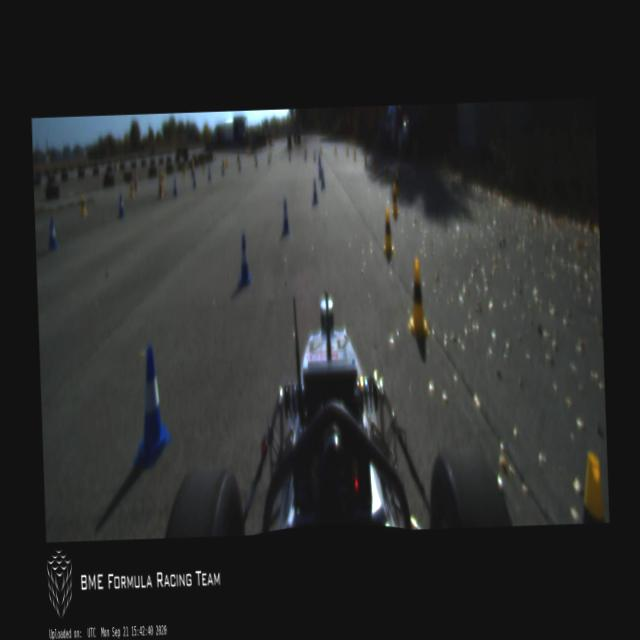blue_cone: (130, 342, 172, 470), (235, 234, 251, 290), (280, 197, 290, 237), (47, 215, 57, 252), (311, 178, 317, 206), (118, 192, 124, 218), (172, 178, 178, 198), (317, 156, 322, 178), (206, 165, 212, 182), (320, 168, 324, 188), (192, 170, 196, 188), (220, 160, 224, 177), (238, 158, 242, 172), (288, 150, 292, 162), (267, 152, 270, 164), (255, 156, 258, 168), (304, 148, 306, 161), (312, 149, 314, 160)
yellow_cone: (406, 258, 429, 336), (382, 209, 394, 254), (390, 184, 400, 218), (80, 192, 86, 218), (394, 170, 400, 195), (384, 164, 390, 184), (128, 180, 134, 198), (363, 151, 368, 171), (160, 170, 164, 187), (372, 156, 376, 172), (319, 144, 322, 156), (353, 148, 355, 160), (334, 144, 336, 155), (346, 145, 348, 155)
